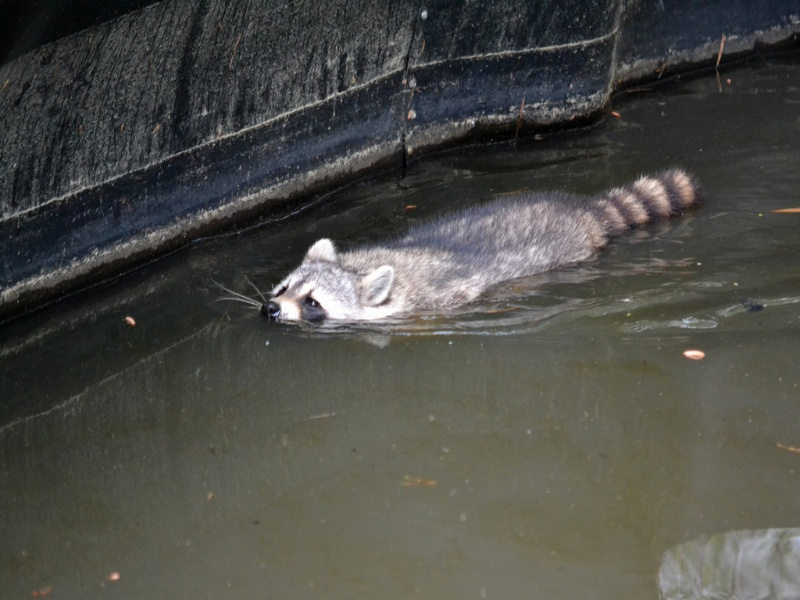raccoon: (258, 162, 707, 352)
